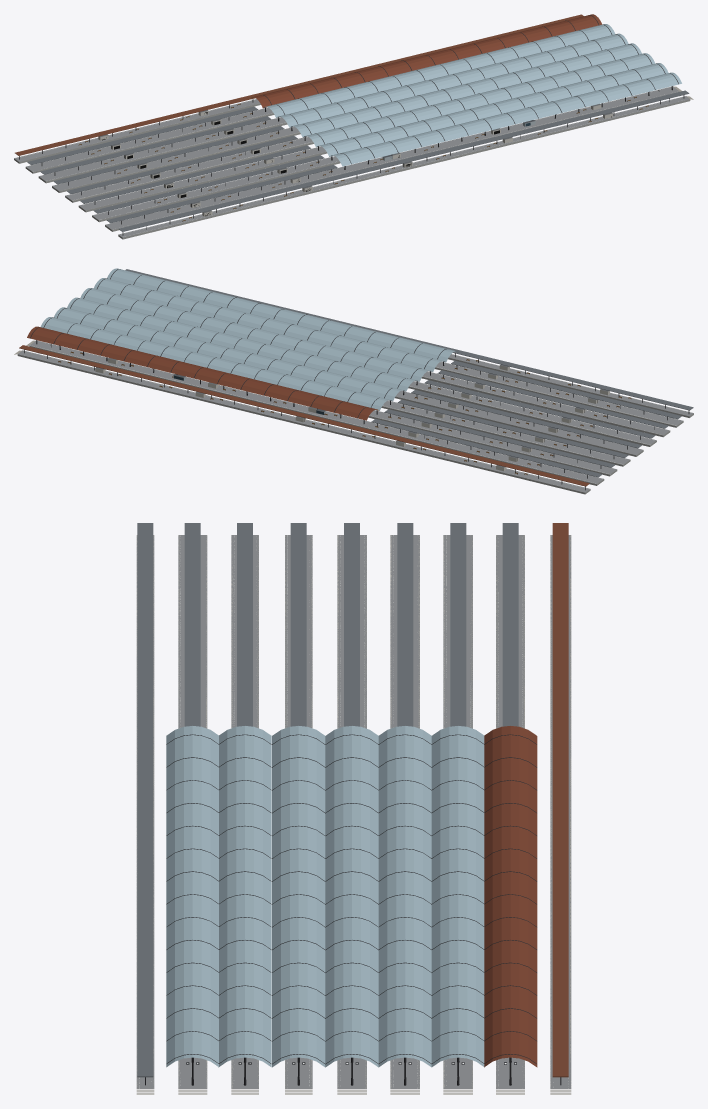
File: hb_perron.glb
3 views of the same model, one above another, from view 1: azimuth 30°, elevation 25°; view 2: azimuth 150°, elevation 25°; view 3: azimuth 270°, elevation 25° (orthographic). The views are drawn at different scales.
Parts seen in each view (by area): view 1: hb_perron; view 2: hb_perron; view 3: hb_perron.
Part boxes in pixels (x1,y1,x2,y2): hb_perron: [14, 14, 693, 239]; hb_perron: [14, 268, 693, 494]; hb_perron: [136, 523, 571, 1094].
Bounding box in the file's own units: 428 × 12.35 × 141.
Materials: 2 (2 with a texture image).
